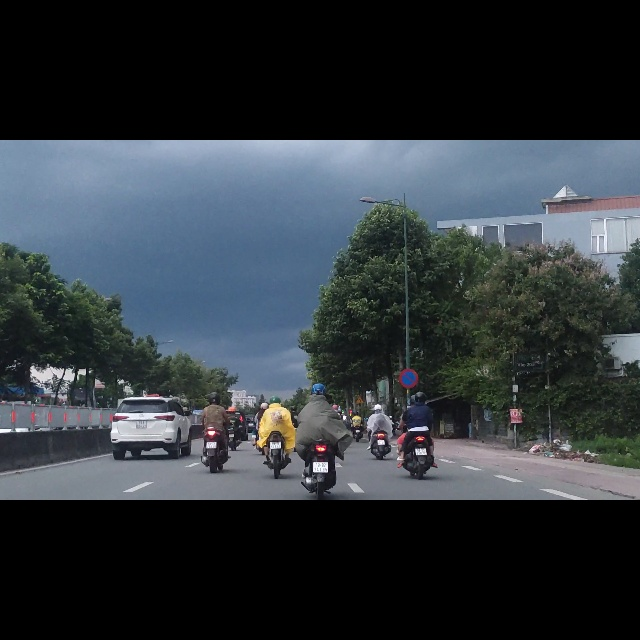bien_nguy_hiem: (399, 406, 418, 440), (356, 455, 364, 468)
